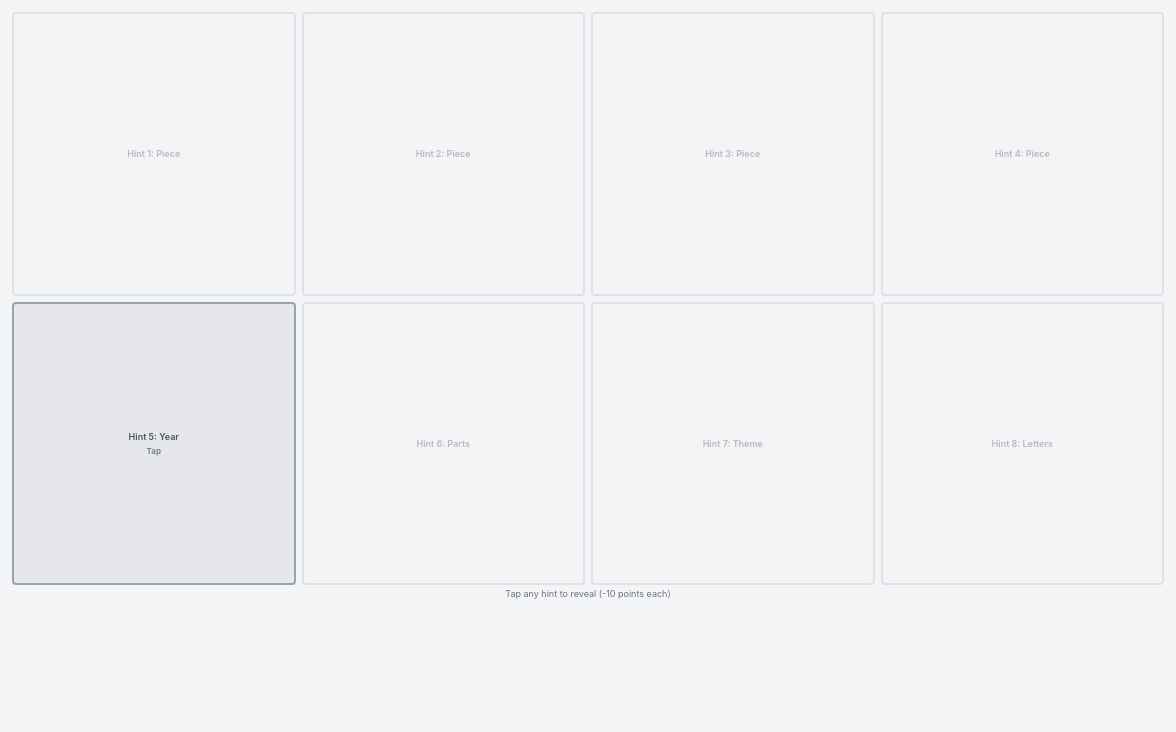
Scenario: Hints › displays year when hint 5 is revealed
# Click hint 5 to reveal it
Step 1. Click the button with aria-label "Hint 5: Year: Click to reveal" → [154, 443], box [12,302,296,585]
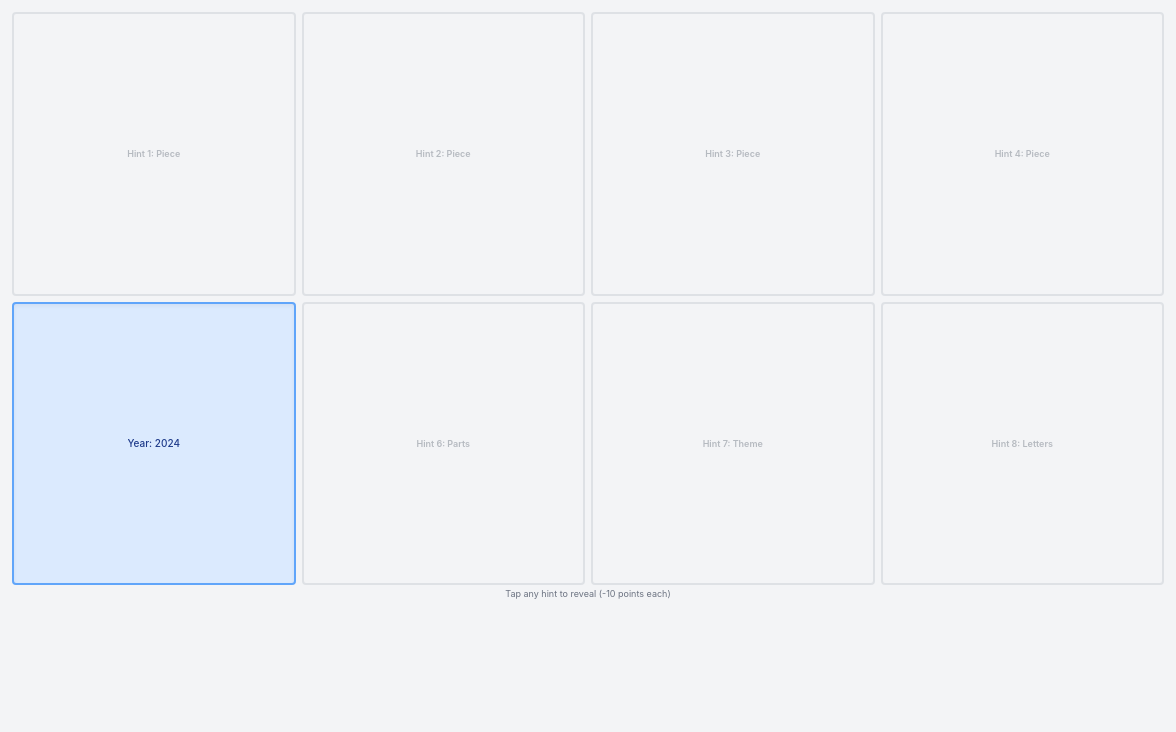
Now the text "Year: 2024" is shown, box [128,437,180,450]
